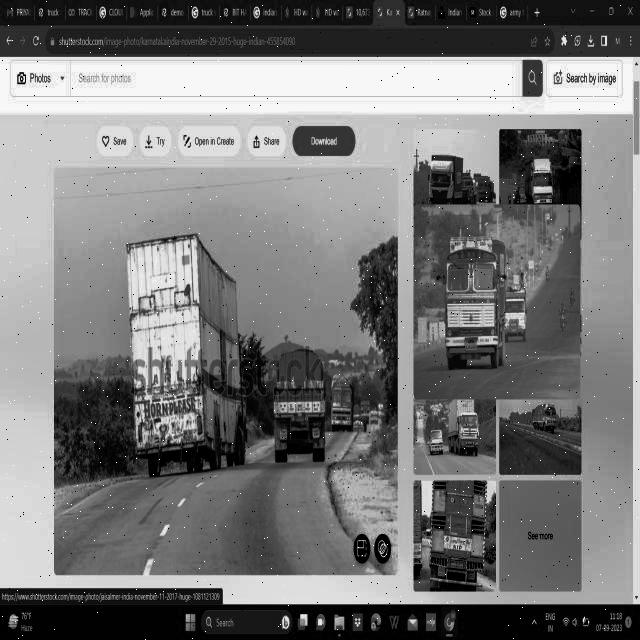HCV: (111, 230, 253, 500)
